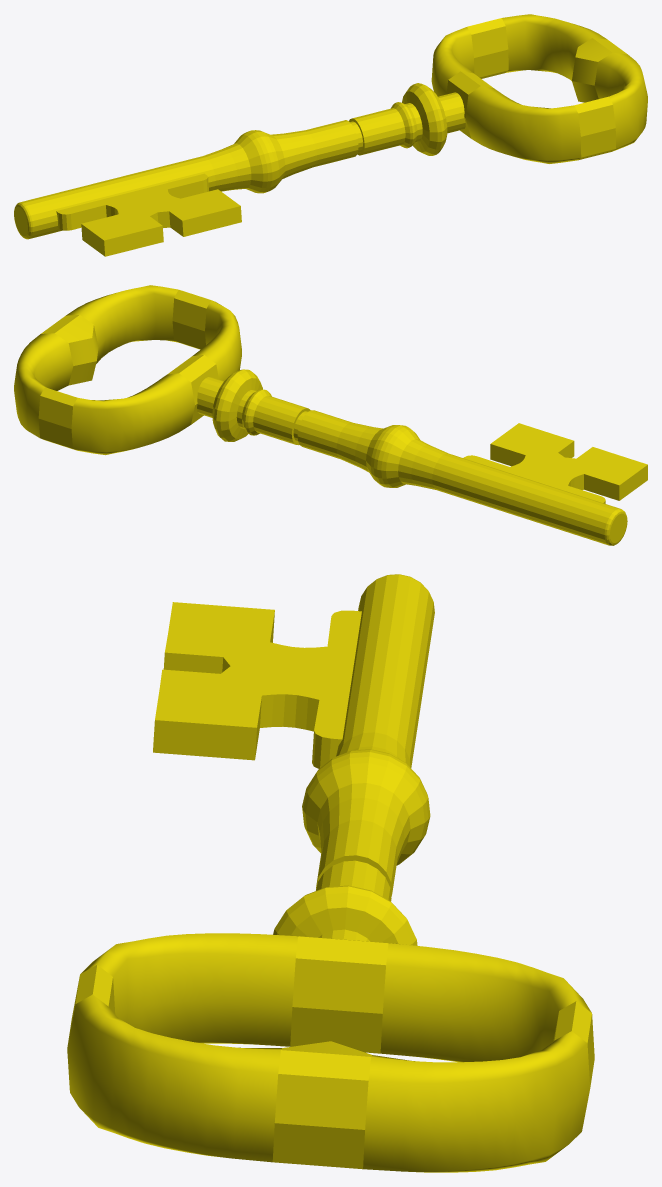
The model's file is llave.fbx.
3 views of the same model, one above another, from view 1: azimuth 30°, elevation 25°; view 2: azimuth 150°, elevation 25°; view 3: azimuth 270°, elevation 25° (orthographic). The views are drawn at different scales.
Parts seen in each view (by area): view 1: Llave; view 2: Llave; view 3: Llave.
Part boxes in pixels (<box>): Llave: <box>14,14,647,256</box>; Llave: <box>14,285,647,545</box>; Llave: <box>67,574,594,1172</box>.
Bounding box in the file's own units: 0.5169 × 0.0641 × 0.2016.
